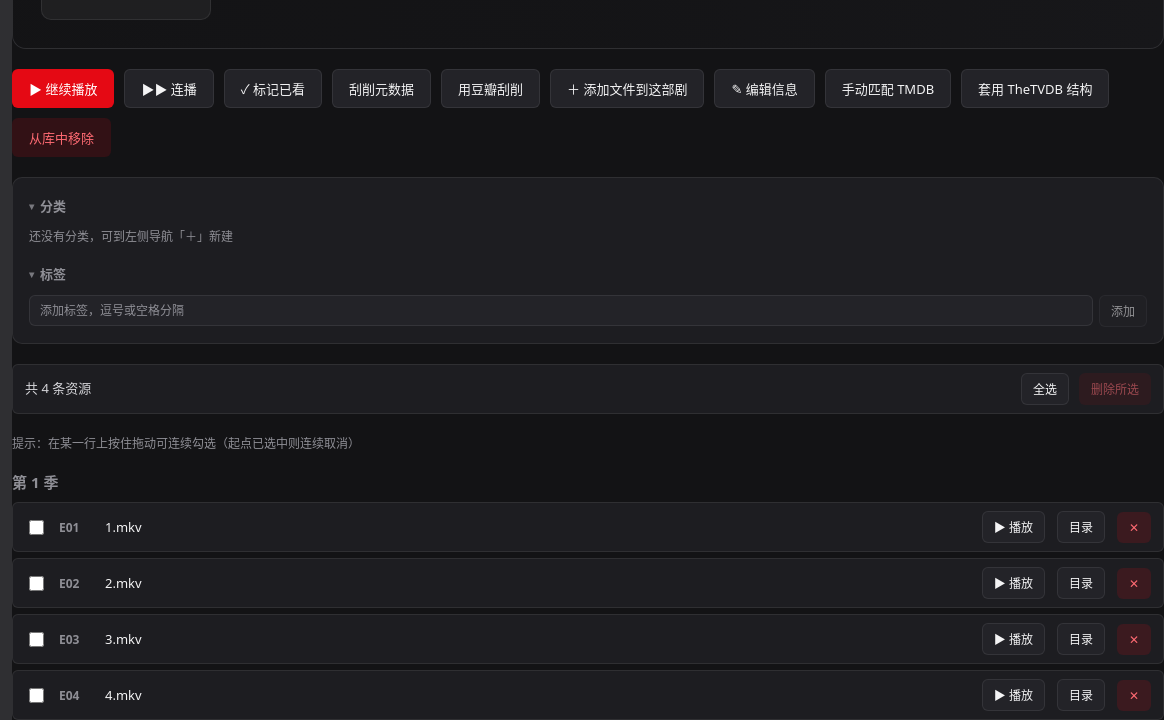
Scenario: MediaDetail 滑动连续多选 › 按住拖动划过一片，连续选中
(page scrolled)
Step 1. Press the mouse on the list item "E01 1.mkv ▶ 播放 目录 ✕" → (588, 528), box [12,502,1163,552]
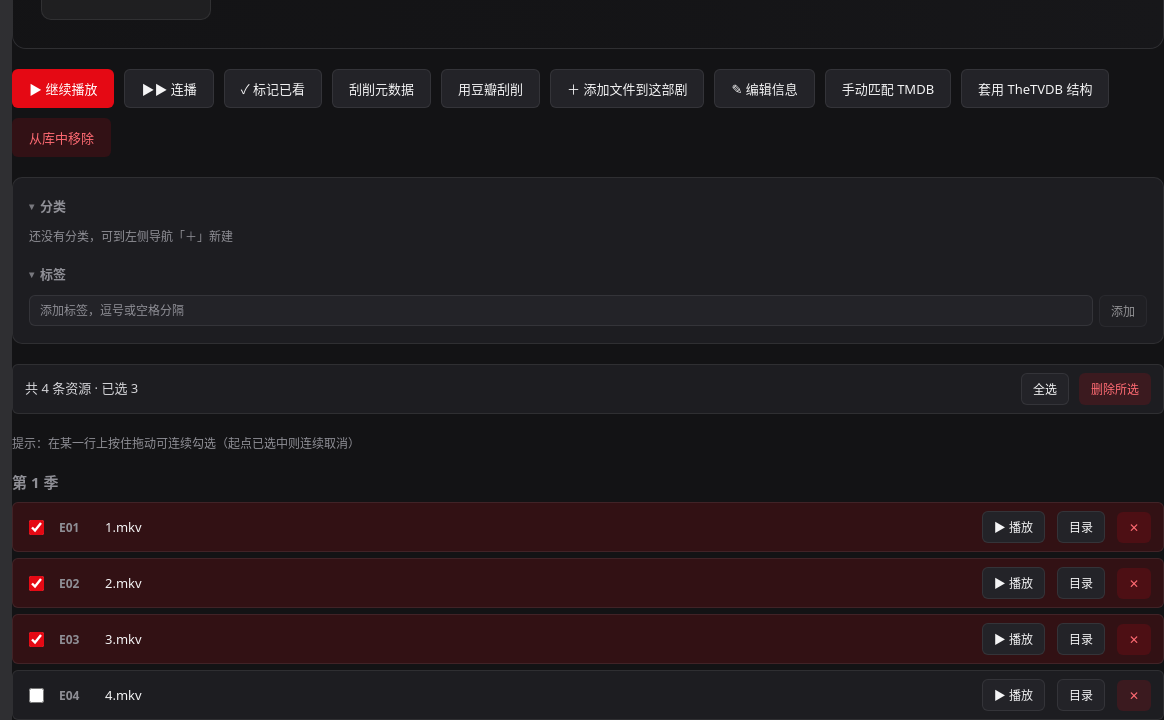
Check: the text "已选 3" is shown, box [91,379,138,397]
